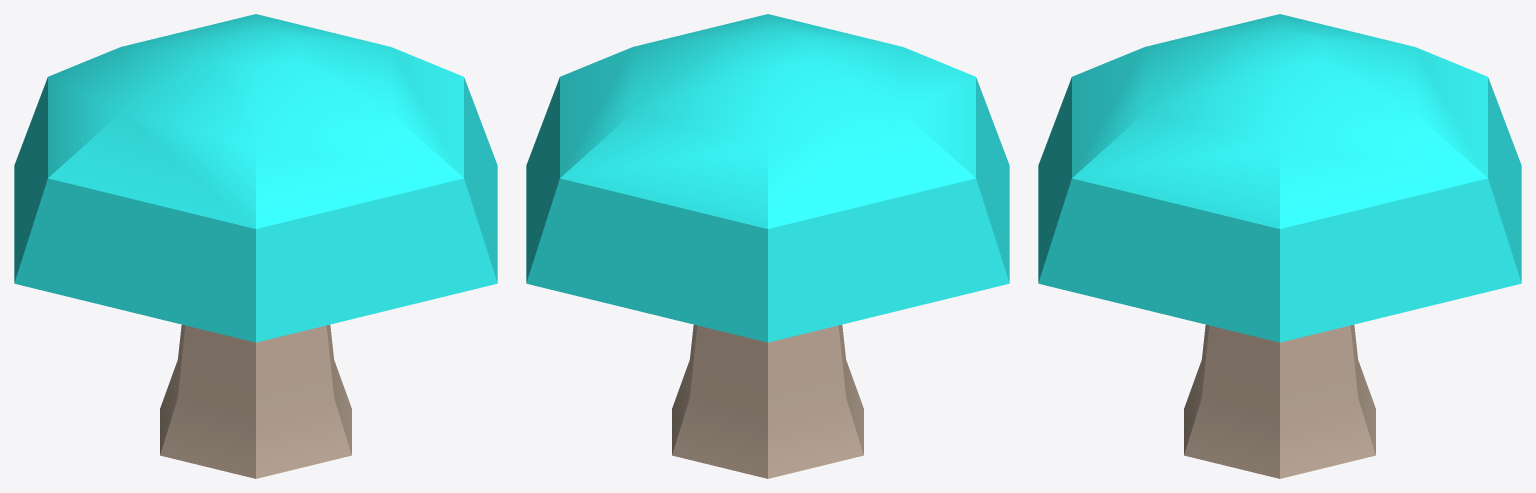
Rendered from Mushroom_Blue_03.fbx.
3 views of the same model, side by side, from view 1: azimuth 30°, elevation 25°; view 2: azimuth 150°, elevation 25°; view 3: azimuth 270°, elevation 25° (orthographic).
Parts seen in each view (by area): view 1: Mushroom_Blue_03; view 2: Mushroom_Blue_03; view 3: Mushroom_Blue_03.
Boxes of the visible parts, x1,y1,x2,y2 form: Mushroom_Blue_03: [14, 14, 497, 478]; Mushroom_Blue_03: [526, 14, 1009, 478]; Mushroom_Blue_03: [1038, 14, 1521, 478].
Bounding box in the file's own units: 11.07 × 8.37 × 9.58.
